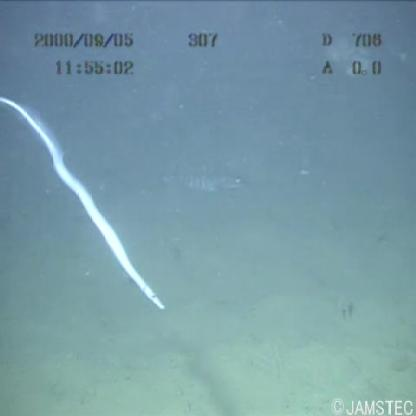Bio: (1, 93, 170, 313)
